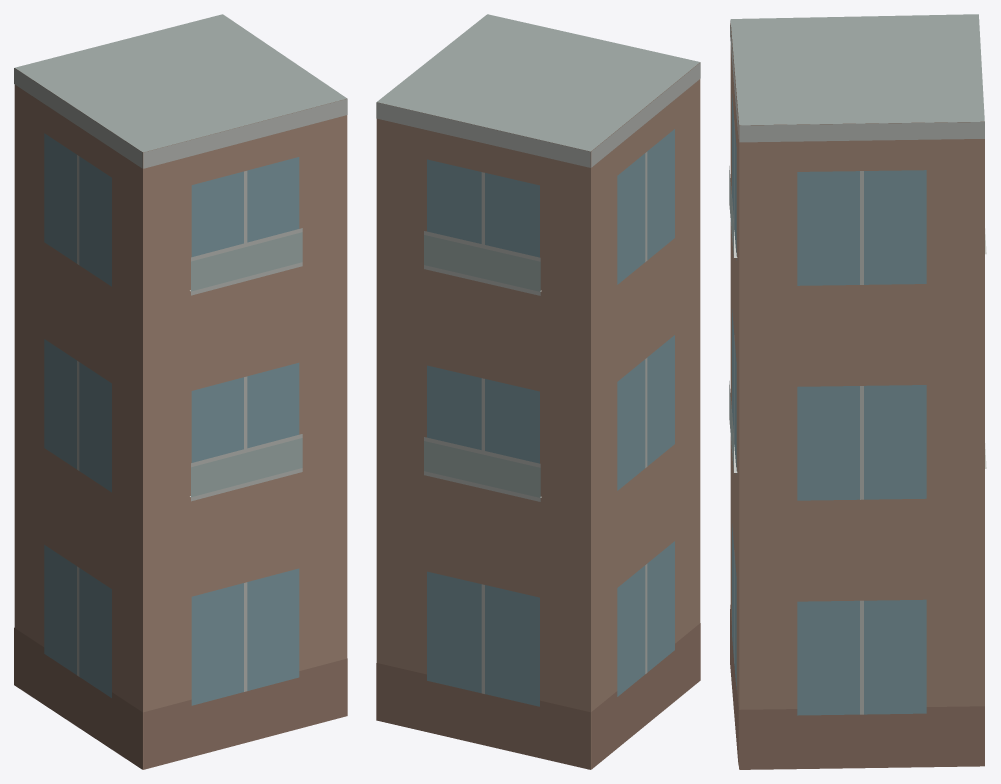
Rendered from survey-upis-32973559.glb.
3 views of the same model, side by side, from view 1: azimuth 30°, elevation 25°; view 2: azimuth 150°, elevation 25°; view 3: azimuth 270°, elevation 25° (orthographic). The views are drawn at different scales.
Parts seen in each view (by area): view 1: survey-upis-32973559.tmp; view 2: survey-upis-32973559.tmp; view 3: survey-upis-32973559.tmp.
Boxes of the visible parts, left/top/right/bottom form: survey-upis-32973559.tmp: left=14, top=14, right=347, bottom=769; survey-upis-32973559.tmp: left=376, top=14, right=700, bottom=769; survey-upis-32973559.tmp: left=729, top=14, right=986, bottom=769.
Bounding box in the file's own units: 3.4 × 9.15 × 3.31.
